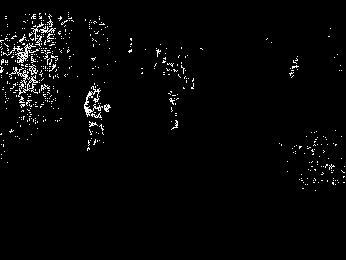person: (85, 84, 111, 156)
